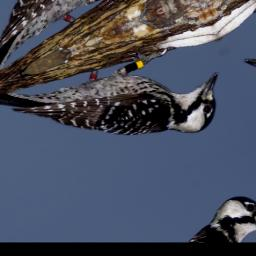Woodpecker: (0, 5, 239, 210)
